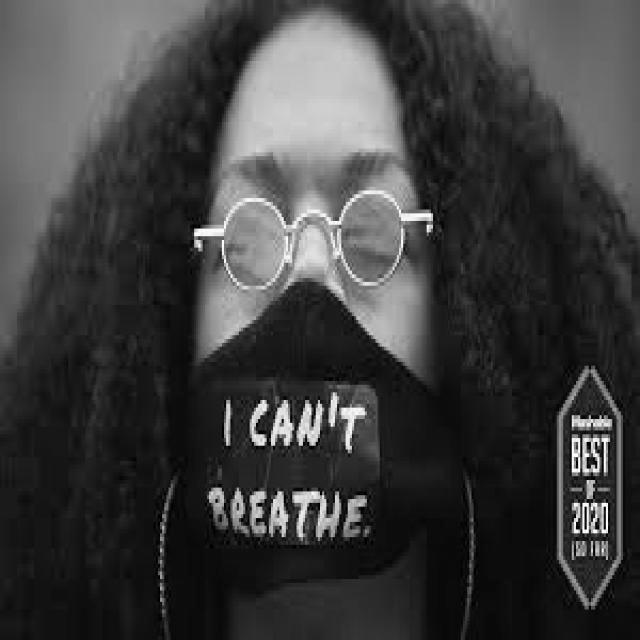fake: (171, 286, 445, 600), (205, 184, 421, 294)
